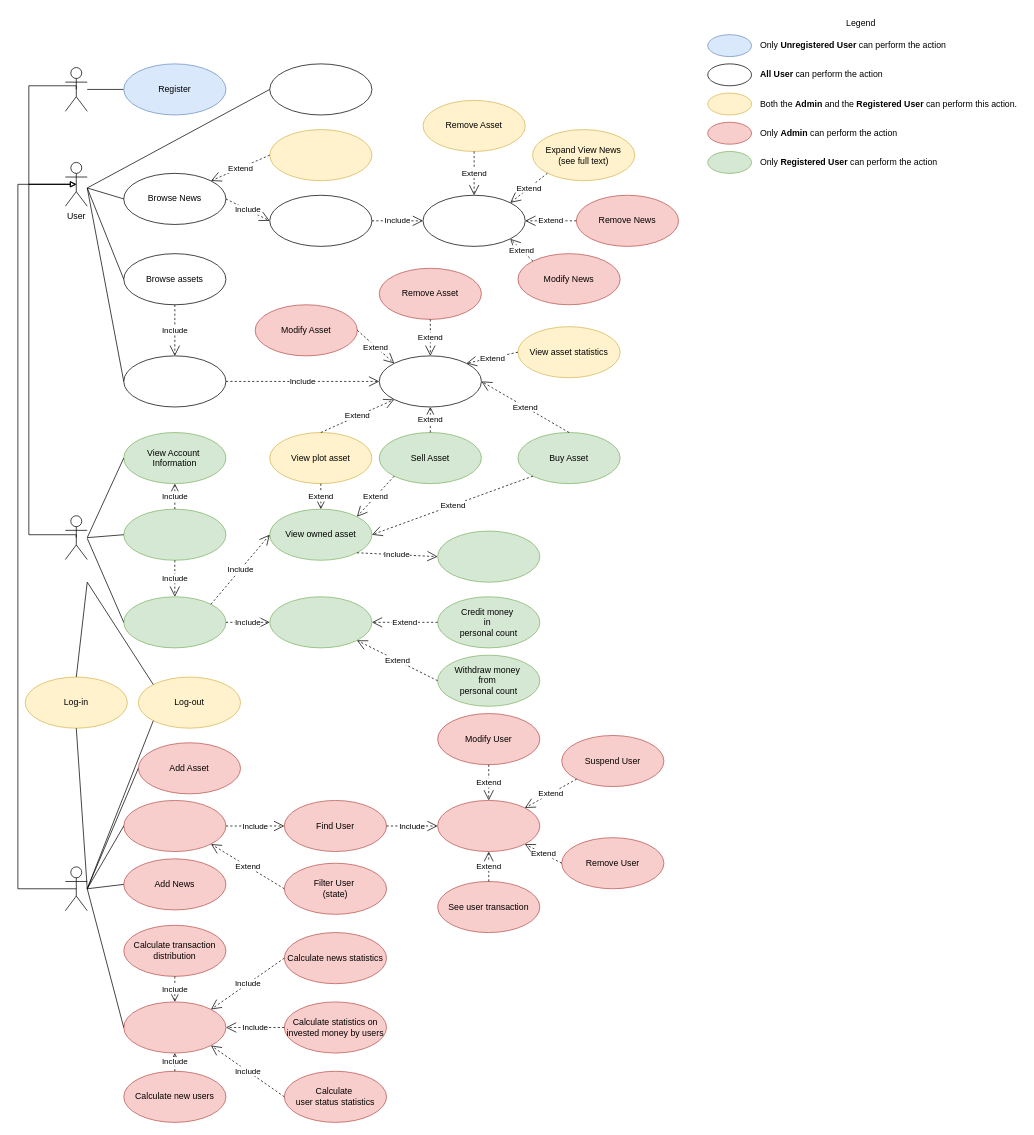
Some shapes in this 1034 by 1135 pixel diagram are drawn without their labels. Each missing label, with the centre of its shape:
Admin: point (76, 888)
Browse Users: point (174, 826)
Calculate Analytics: point (174, 1027)
Filter News (category, date): point (320, 155)
Find asset: point (174, 381)
Find news: point (320, 220)
Registered User: point (76, 537)
Unregistered User: point (76, 89)
View asset: point (430, 381)
View Basic Information about the Platform: point (320, 89)
View Count: point (320, 622)
View news (title and summary): point (473, 220)
View personal page: point (174, 534)
View Personal Wallet: point (174, 622)
View quantity, name, AVC, current price, gain or loss: point (488, 556)
View User: point (488, 826)
